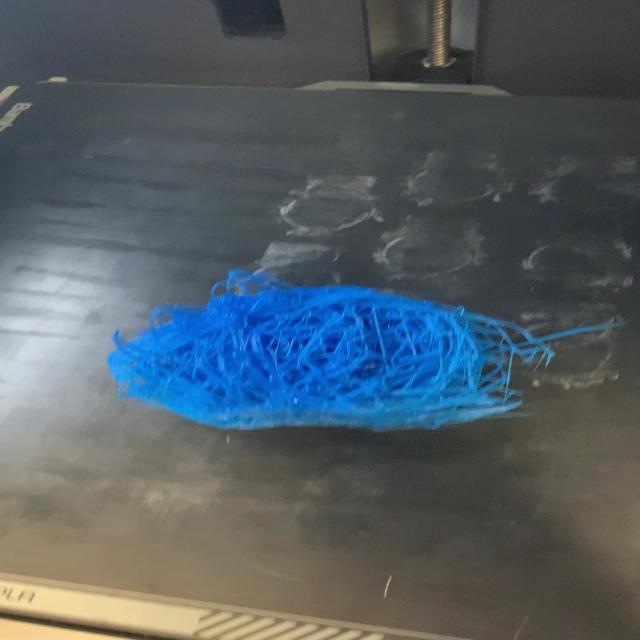spaghetti: (4, 76, 634, 634), (102, 267, 618, 433)
